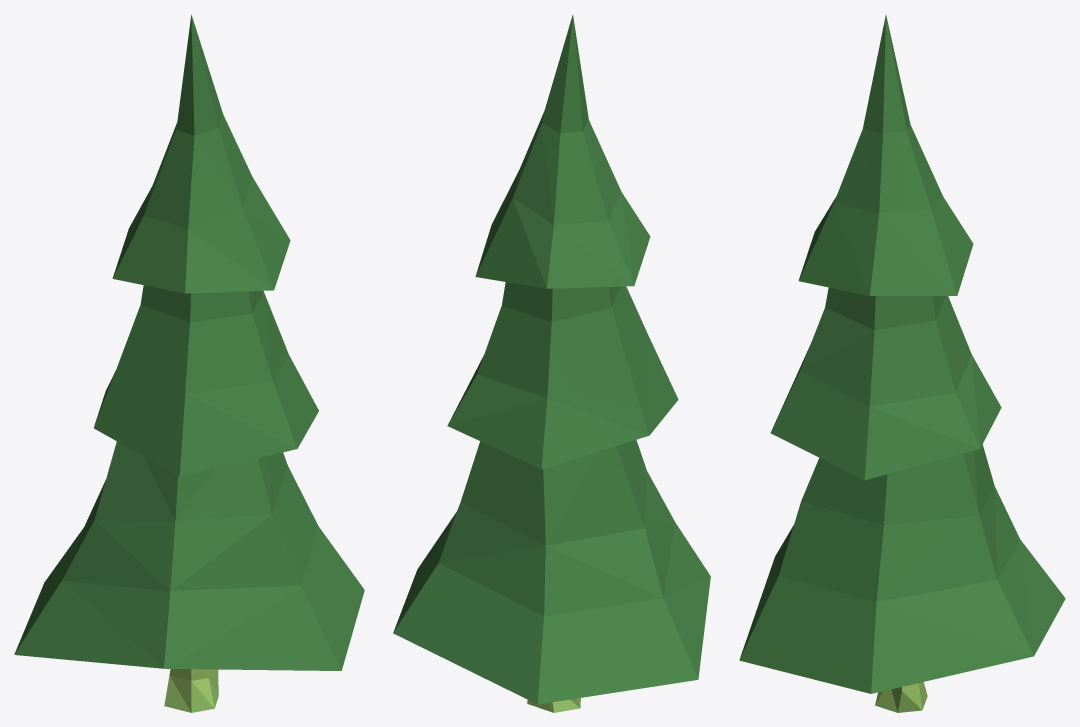
The model's file is tree_e_154.gltf.
The picture shows the model from 3 angles, left to right: view 1: azimuth 30°, elevation 25°; view 2: azimuth 150°, elevation 25°; view 3: azimuth 270°, elevation 25°; orthographic projection.
Visible parts, largest first — view 1: tree_e002; view 2: tree_e002; view 3: tree_e002.
Part boxes in pixels (x1,y1,x2,y2): tree_e002: [14, 14, 364, 712]; tree_e002: [393, 14, 710, 712]; tree_e002: [739, 15, 1065, 712].
Bounding box in the file's own units: 1.84 × 3.83 × 1.66.
1 material, 1 textured.
